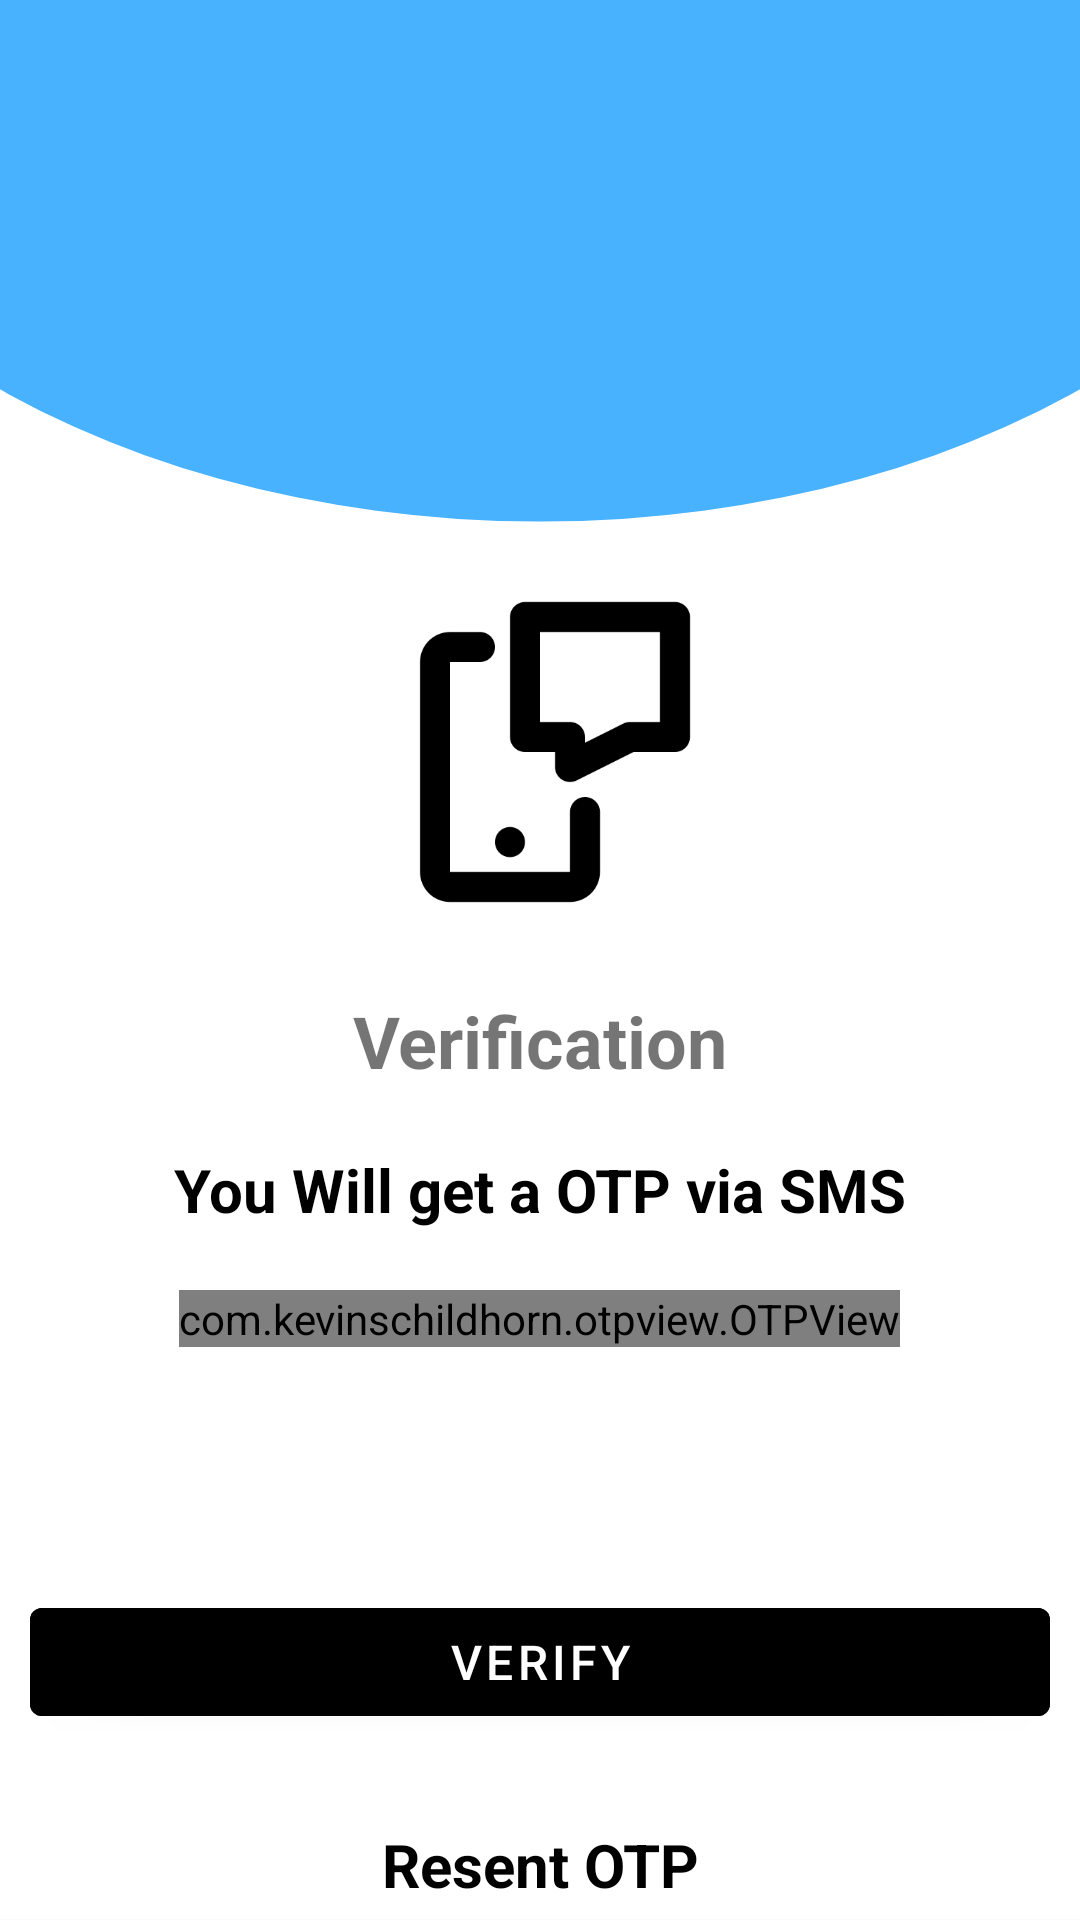

Locate icon controls on the screen. Image size 1080 × 1920, boxes as box=[x1, y1, x2, y2].
smsotpicone: box=[420, 601, 691, 903]
